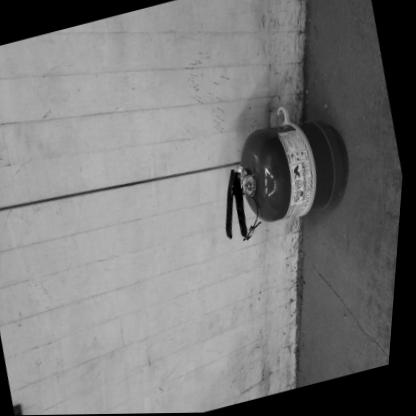FE: (207, 110, 367, 244)
